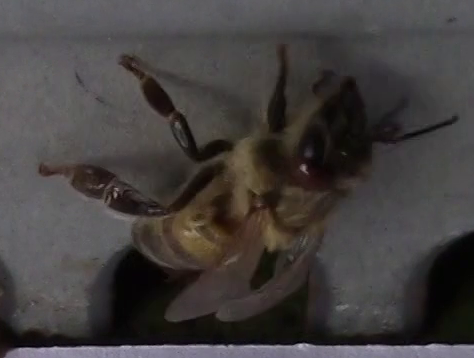Varroa destructor: (292, 159, 331, 191)
